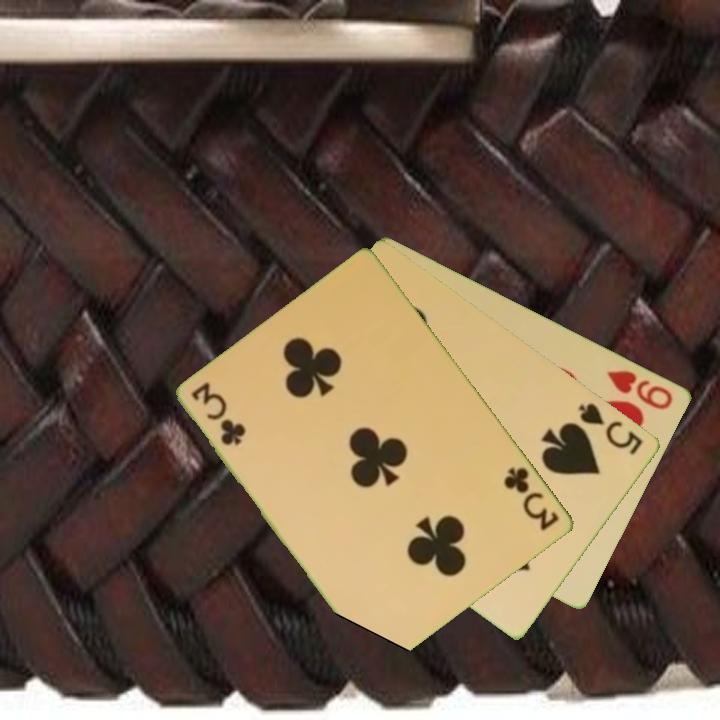3c: (501, 463, 563, 534), (188, 379, 248, 449)
5s: (575, 399, 646, 458)
9h: (603, 366, 676, 413)
